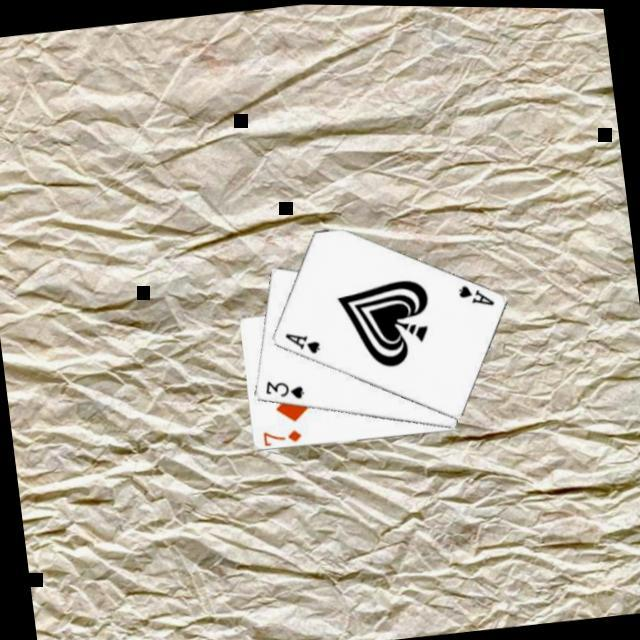3S: (262, 375, 309, 407)
7D: (261, 425, 307, 449)
AS: (456, 278, 499, 312), (284, 327, 325, 360)
